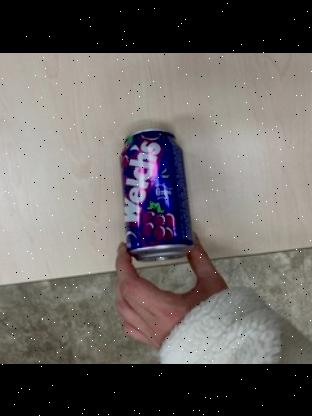Can: (116, 127, 198, 263)
